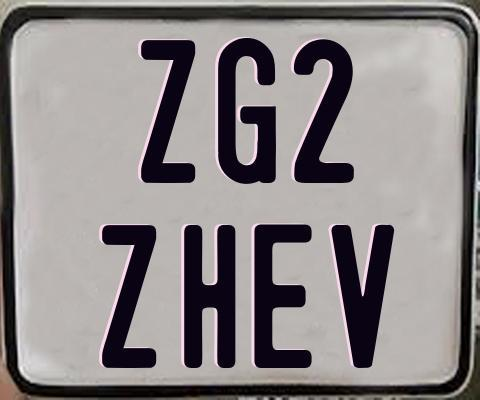2: (291, 38, 356, 188)
E: (252, 221, 310, 370)
G: (216, 38, 275, 188)
H: (181, 225, 236, 373)
V: (331, 222, 396, 368)
Z: (138, 37, 195, 180), (99, 225, 155, 368)
